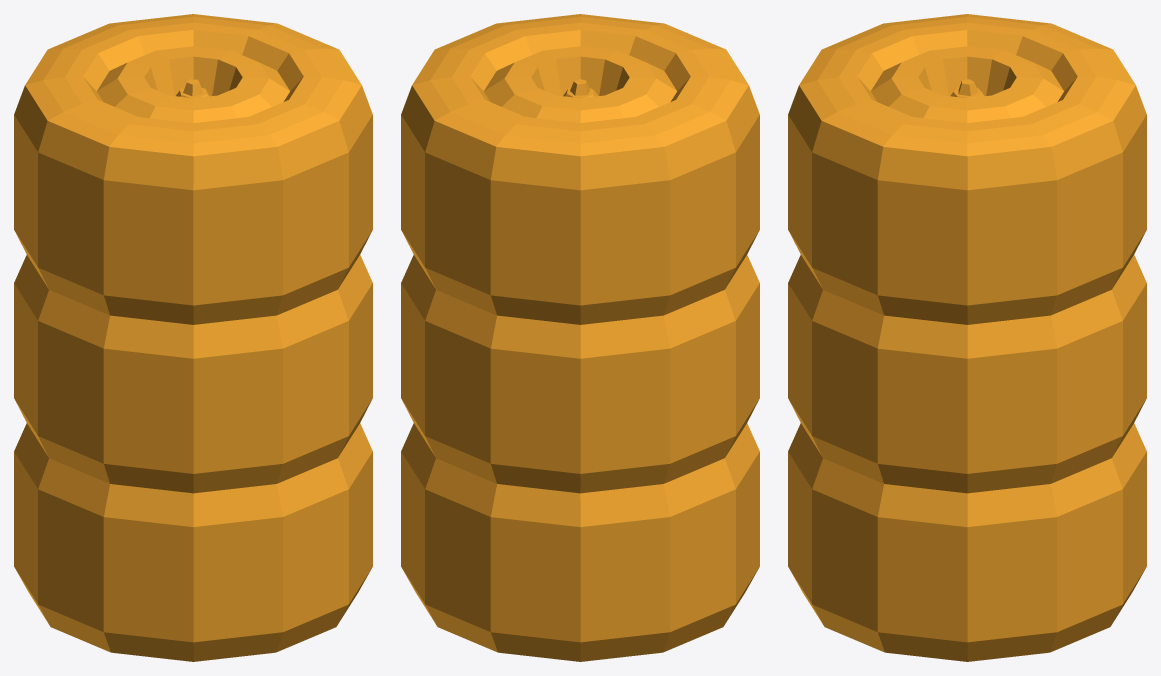
The model's file is SM_Wheel_Stack_Formula.fbx.
3 renders of one model, left to right at view 1: azimuth 30°, elevation 25°; view 2: azimuth 150°, elevation 25°; view 3: azimuth 270°, elevation 25°, orthographic.
Visible parts, largest first — view 1: SM_Wheel_Stack_Formula; view 2: SM_Wheel_Stack_Formula; view 3: SM_Wheel_Stack_Formula.
Part boxes in pixels (box(x1,y1,x2,y2)): SM_Wheel_Stack_Formula: box(14, 14, 372, 661); SM_Wheel_Stack_Formula: box(401, 14, 759, 661); SM_Wheel_Stack_Formula: box(788, 14, 1146, 661).
Bounding box in the file's own units: 0.7193 × 1.15 × 0.7193.
